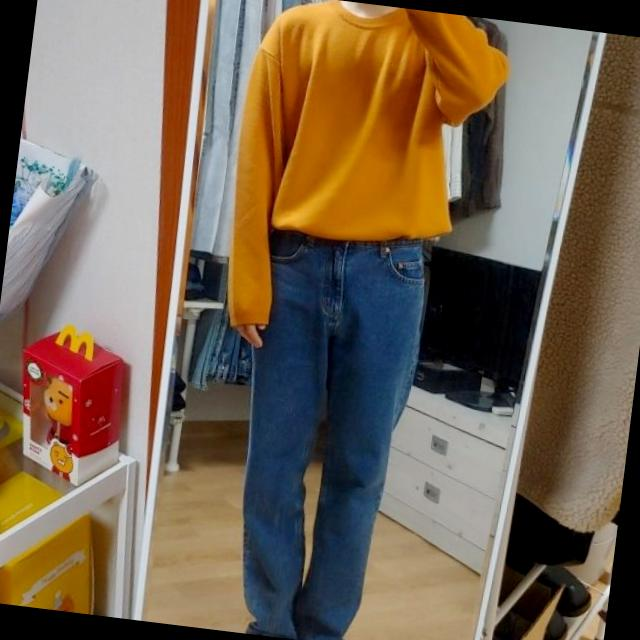denimpants: (217, 222, 427, 640)
sweater: (216, 0, 518, 353)
